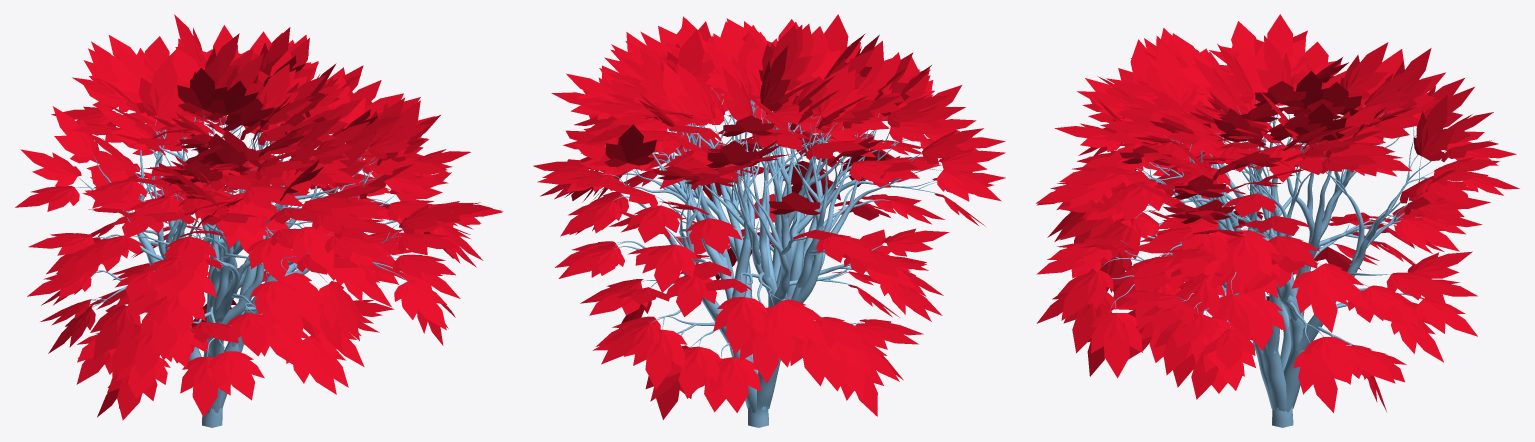
File: tree2.glb
3 renders of one model, left to right at view 1: azimuth 30°, elevation 25°; view 2: azimuth 150°, elevation 25°; view 3: azimuth 270°, elevation 25°, orthographic. The views are drawn at different scales.
Visible parts, largest first — view 1: leaves, tree; view 2: leaves, tree; view 3: leaves, tree.
Boxes of the visible parts, x1,y1,x2,y2 form: leaves: (15,14,503,420); tree: (75,110,406,427); leaves: (533,14,1005,419); tree: (598,88,942,427); leaves: (1036,14,1519,412); tree: (1102,96,1448,427).
Size of the model in its own units: 3.46 by 2.79 by 3.25.
